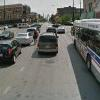Bus: (67, 13, 100, 78)
